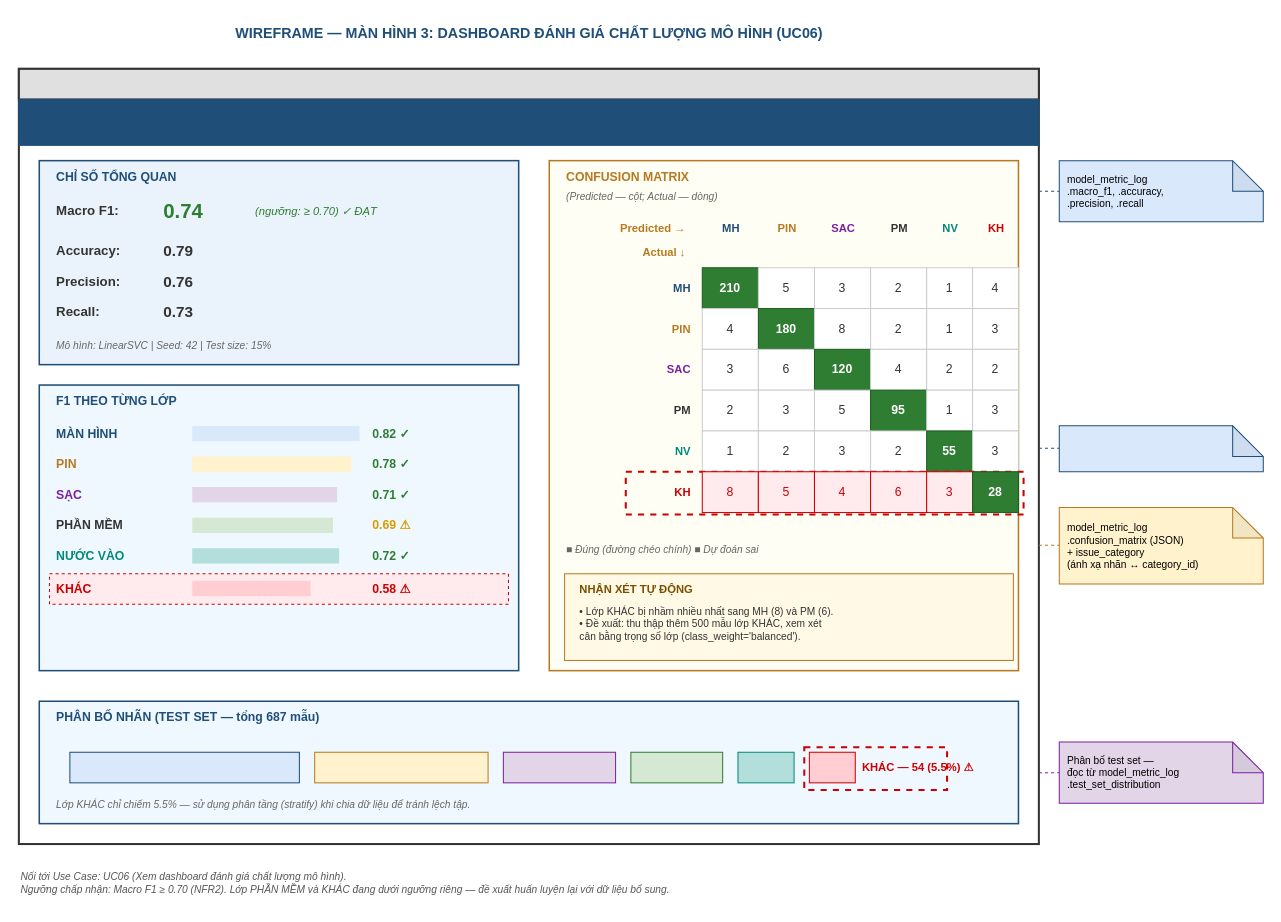
Image size: 1281x922. Some labels were removed from this diagram. The shapes that lost their labels are listed below. From the top down, each one's centre as x and y in pixels, then its label:
point (528, 83): ● ● ● Smart CRM — Mekong Mobile
point (528, 121): ĐÁNH GIÁ CHẤT LƯỢNG MÔ HÌNH
point (1160, 448): model_metric_log .per_class_f1 (JSON)
point (184, 767): MÀN HÌNH — 225 (32.8%)
point (401, 767): PIN — 198 (24.5%)
point (559, 767): SẠC — 137 (16.0%)
point (676, 767): PHẦN MỀM — 109 (13.0%)
point (765, 767): NƯỚC VÀO — 66 (8.3%)
